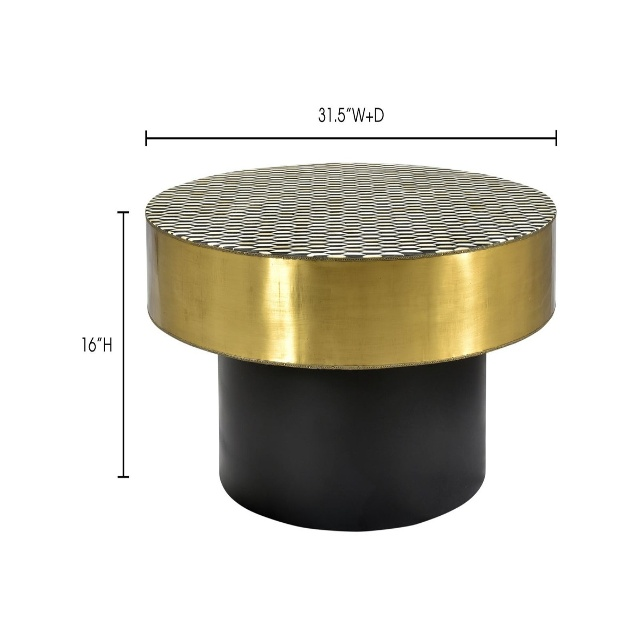obstacle: (146, 164, 555, 530)
